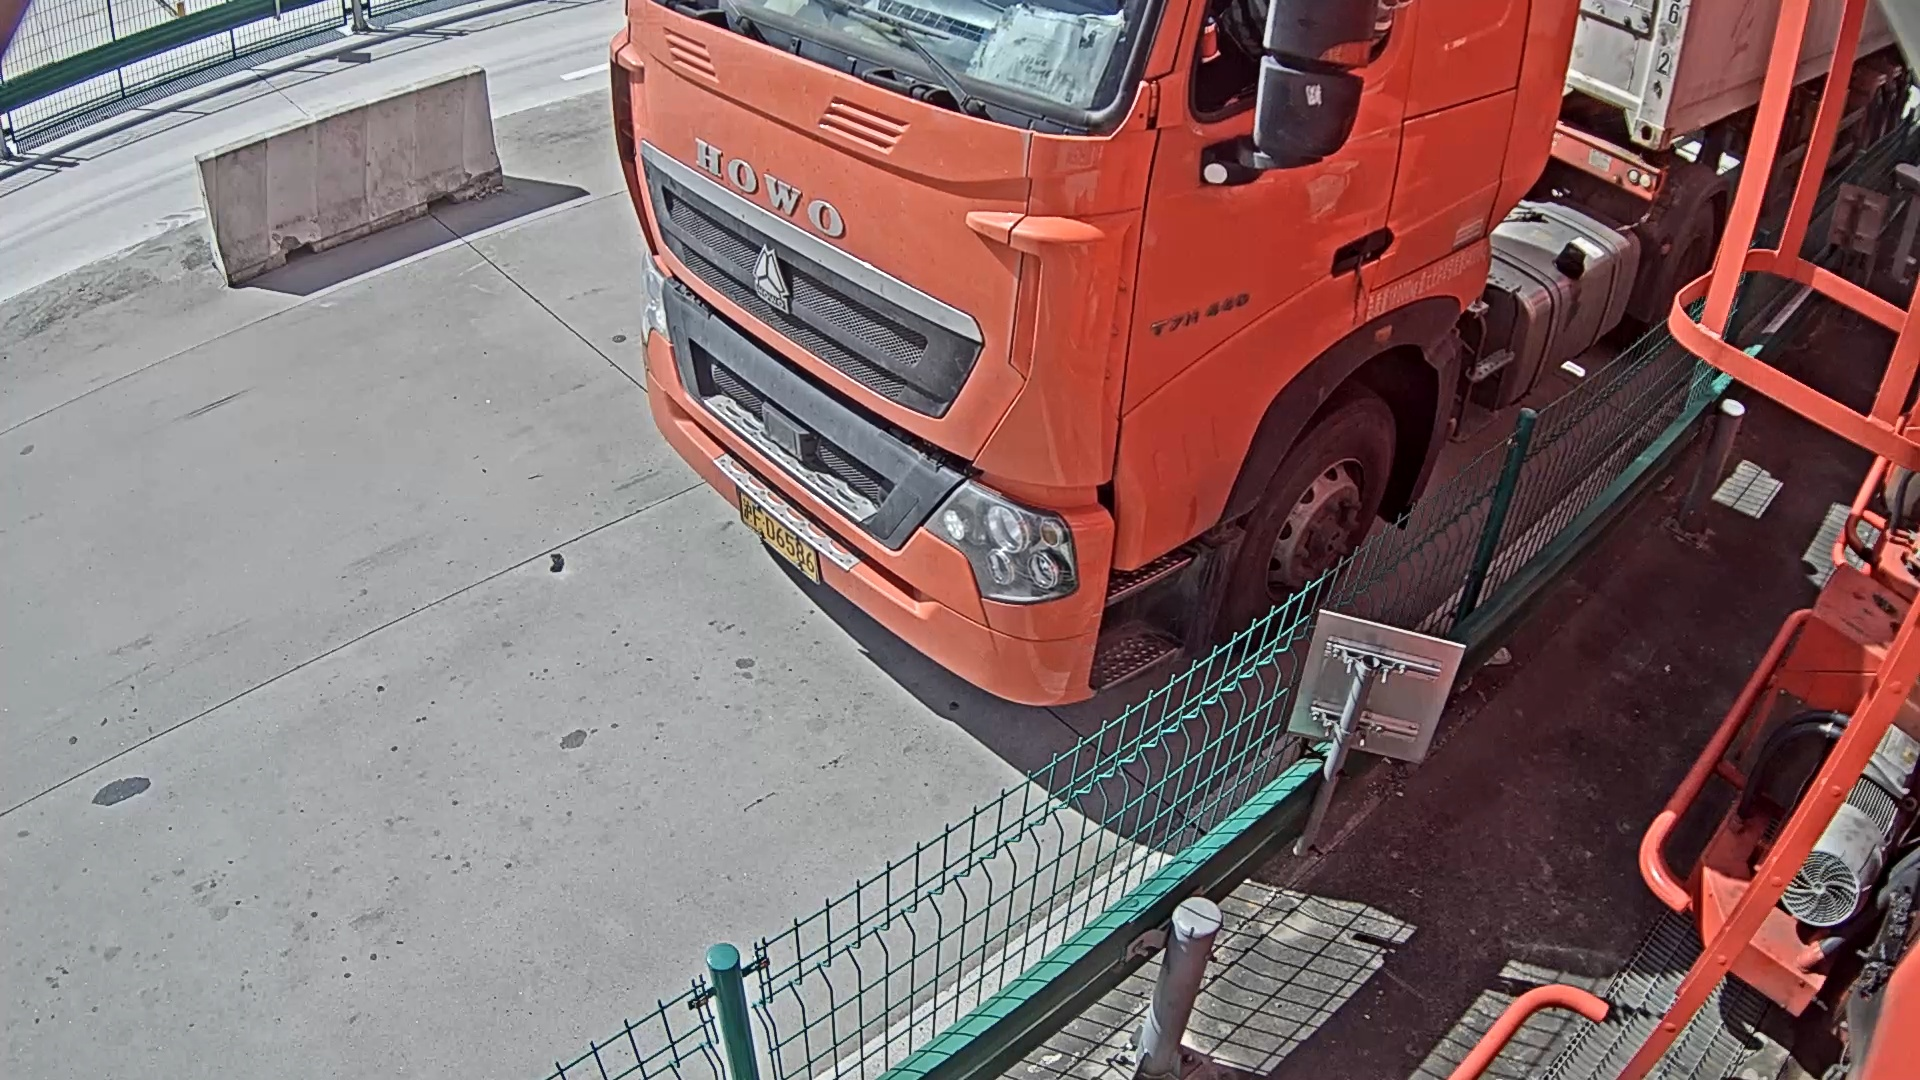head: (615, 2, 1579, 715)
plate: (738, 489, 820, 582)
